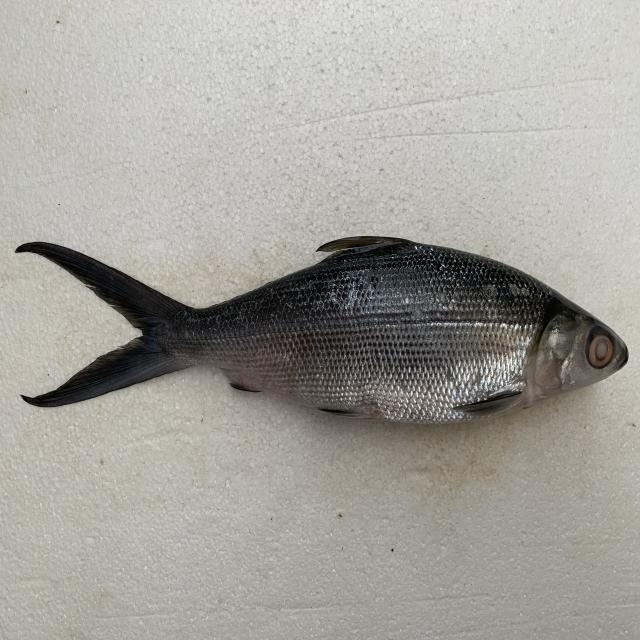Bangus-VF -11-12-: (27, 180, 637, 453)
Eye-5-: (583, 319, 621, 380)
Skin-6-: (184, 224, 534, 443)
